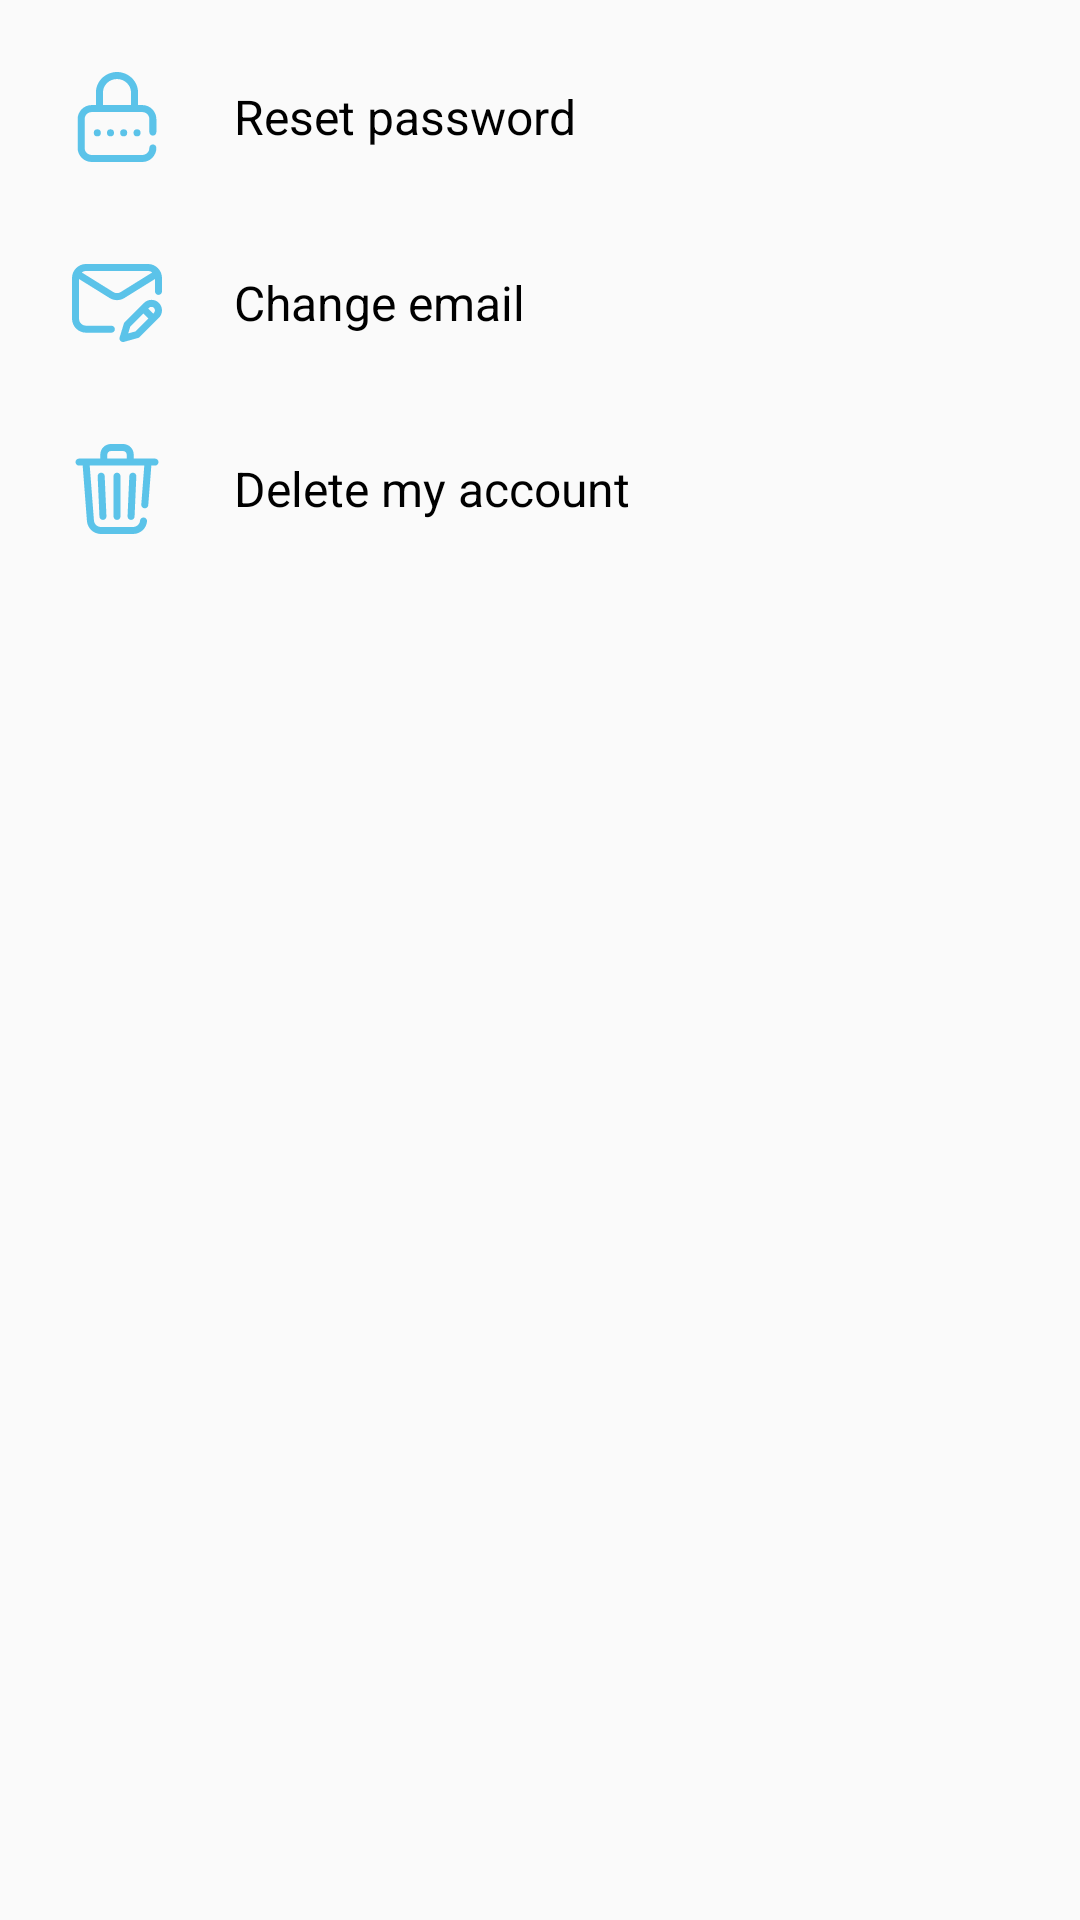

Icons on this 1080px x 1920px Android screen, each with the point to tap as (x=x, y=y):
trash: (x=117, y=489)
